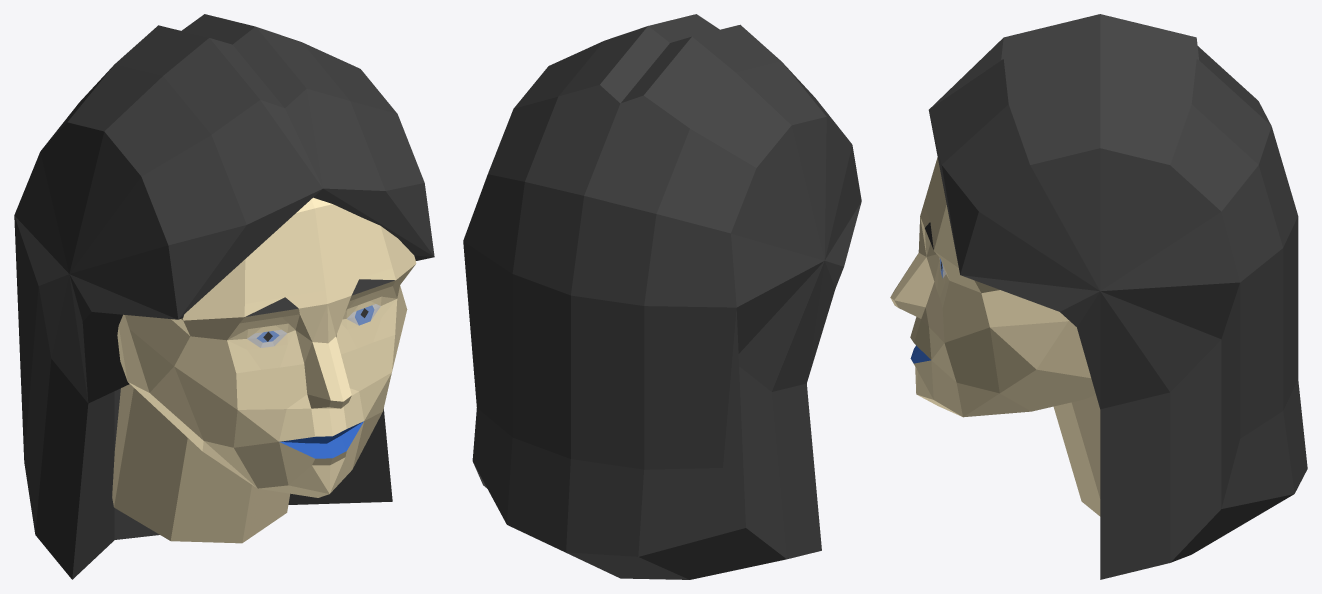
Rendered from block_frigate_heavy.fbx.
The picture shows the model from 3 angles, left to right: view 1: azimuth 30°, elevation 25°; view 2: azimuth 150°, elevation 25°; view 3: azimuth 270°, elevation 25°; orthographic projection. The views are drawn at different scales.
Visible parts, largest first — view 1: hair, head, neck; view 2: hair; view 3: hair, head, neck.
Part boxes in pixels (<box>): hair: <box>14,14,434,579</box>; head: <box>117,197,416,497</box>; neck: <box>112,384,290,543</box>; hair: <box>463,14,861,579</box>; hair: <box>928,14,1307,579</box>; head: <box>890,157,1095,417</box>; neck: <box>1053,395,1100,516</box>.
Size of the model in its own units: 19.8 by 31.25 by 23.19.
